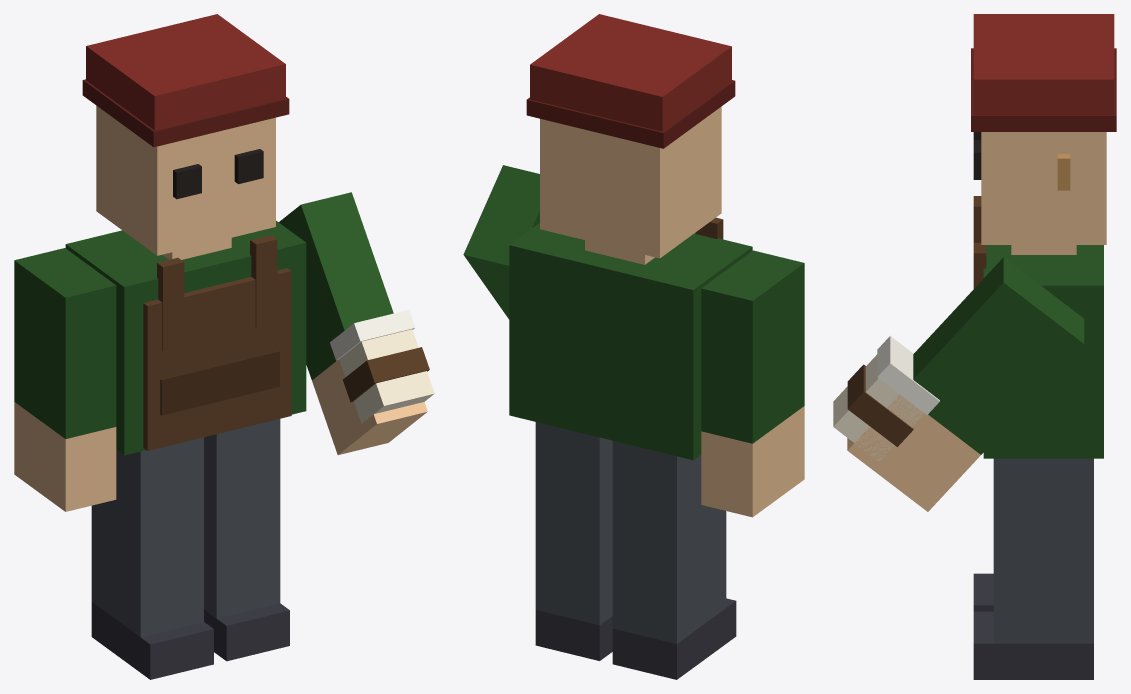
The model's file is office__barista.glb.
3 views of the same model, side by side, from view 1: azimuth 30°, elevation 25°; view 2: azimuth 150°, elevation 25°; view 3: azimuth 270°, elevation 25° (orthographic). The views are drawn at different scales.
Parts seen in each view (by area): view 1: office__barista, rig_armL, rig_legL, rig_armR, rig_legR; view 2: office__barista, rig_armL, rig_legL, rig_legR, rig_armR; view 3: office__barista, rig_armR, rig_legR, rig_legL.
Boxes of the visible parts, x1,y1,x2,y2 form: office__barista: [65, 14, 306, 455]; rig_armL: [14, 248, 116, 511]; rig_legL: [91, 437, 213, 679]; rig_armR: [278, 192, 434, 454]; rig_legR: [204, 419, 289, 661]; office__barista: [509, 14, 752, 460]; rig_armL: [701, 250, 804, 517]; rig_legL: [612, 441, 736, 679]; rig_legR: [535, 422, 612, 660]; rig_armR: [463, 165, 539, 319]; office__barista: [971, 14, 1116, 458]; rig_armR: [833, 257, 1084, 511]; rig_legR: [973, 458, 1093, 679]; rig_legL: [973, 573, 993, 611].
Bounding box in the file's own units: 1.39 × 2.63 × 1.13.
